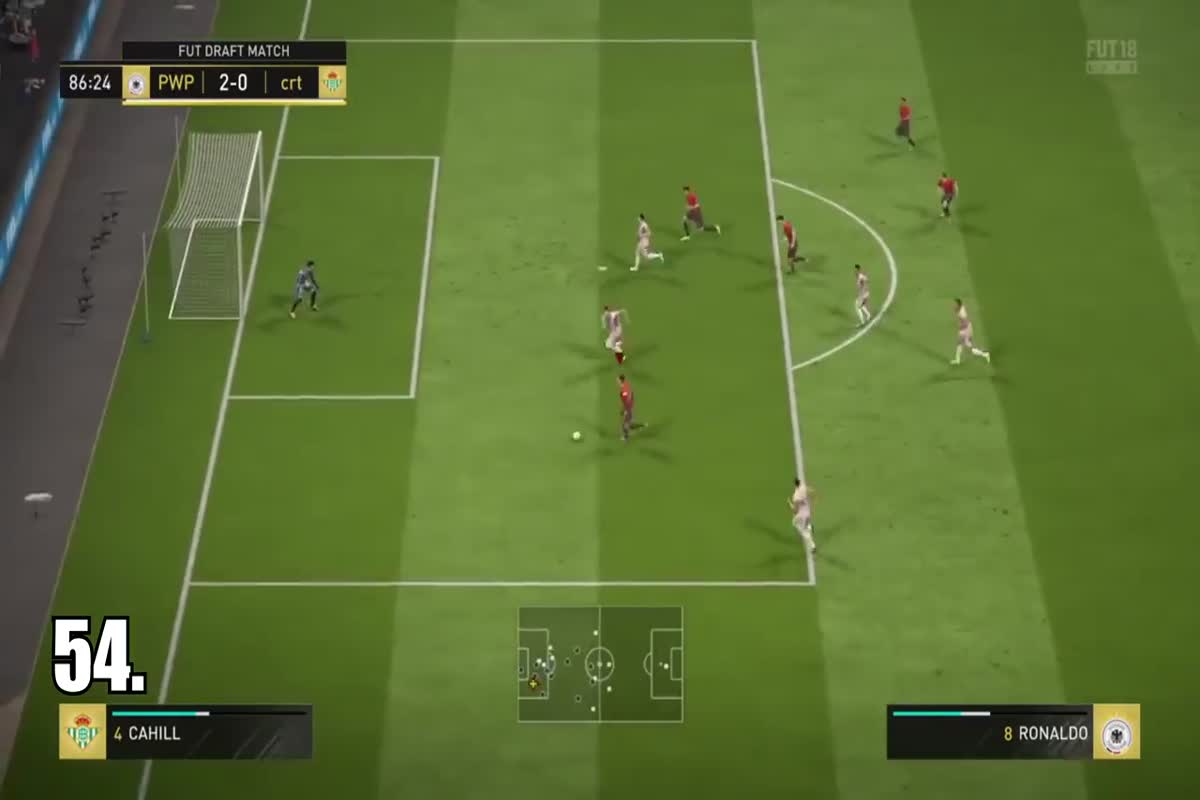ball: (560, 424, 594, 450)
